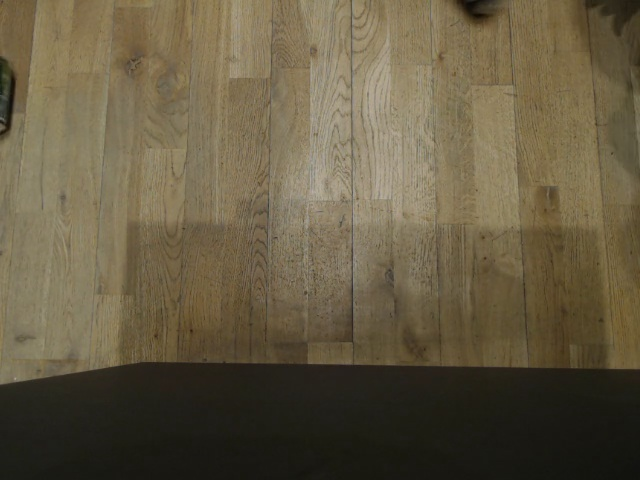beer: (0, 52, 19, 138)
